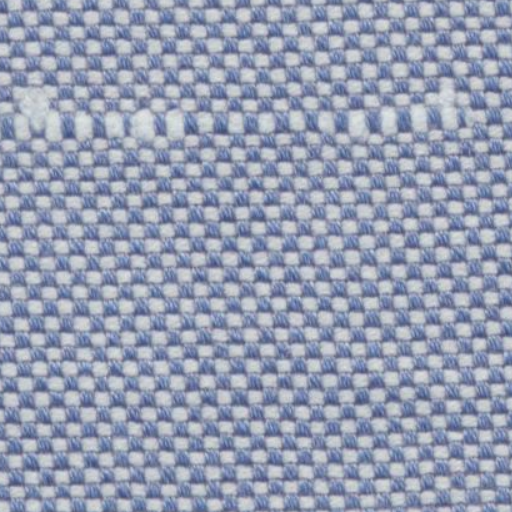DaiSha: (10, 78, 468, 154)
